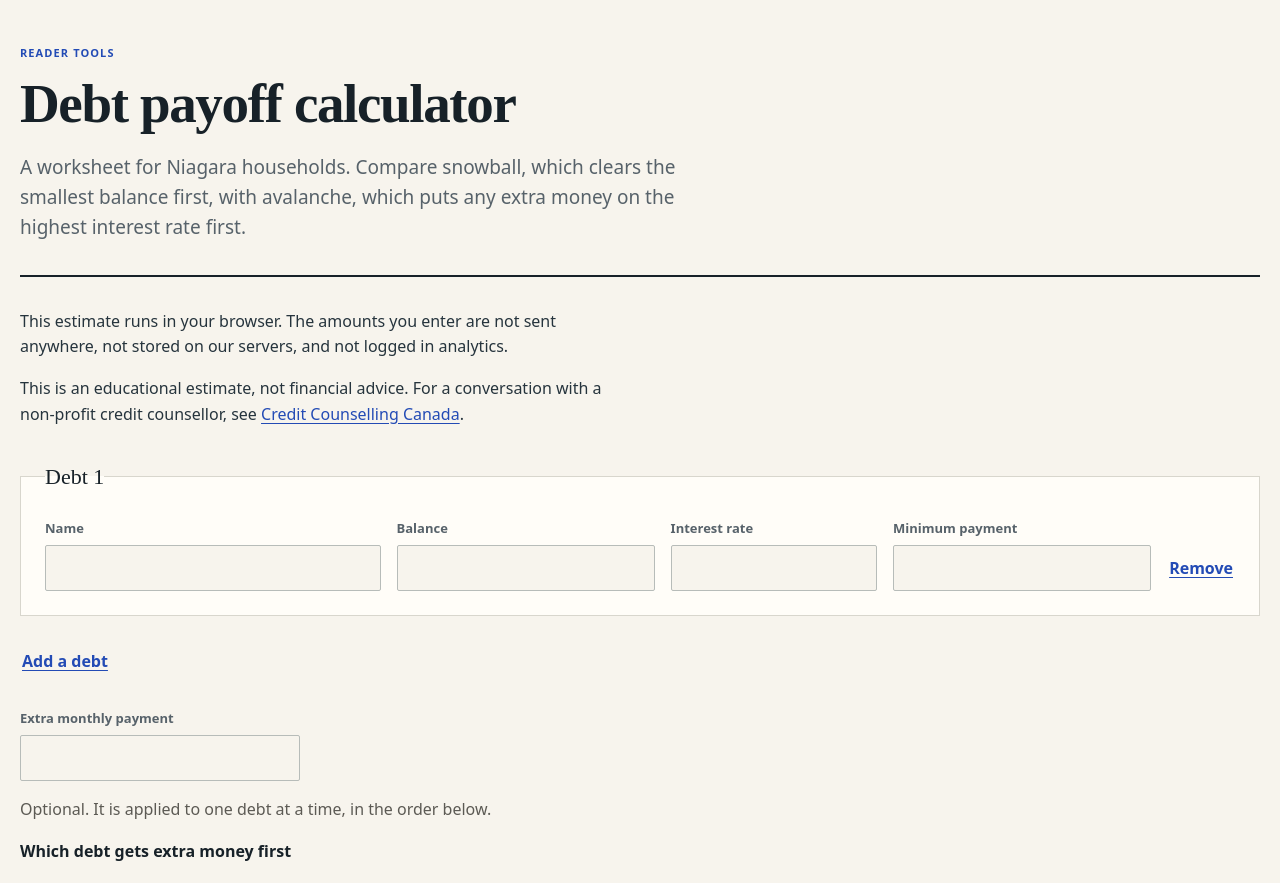
Test: DebtPayoffPage › says when the payments never clear the balance
Type "Loan" into the field labelled "Name" at {"x": 213, "y": 568}, box [45,545,380,591]
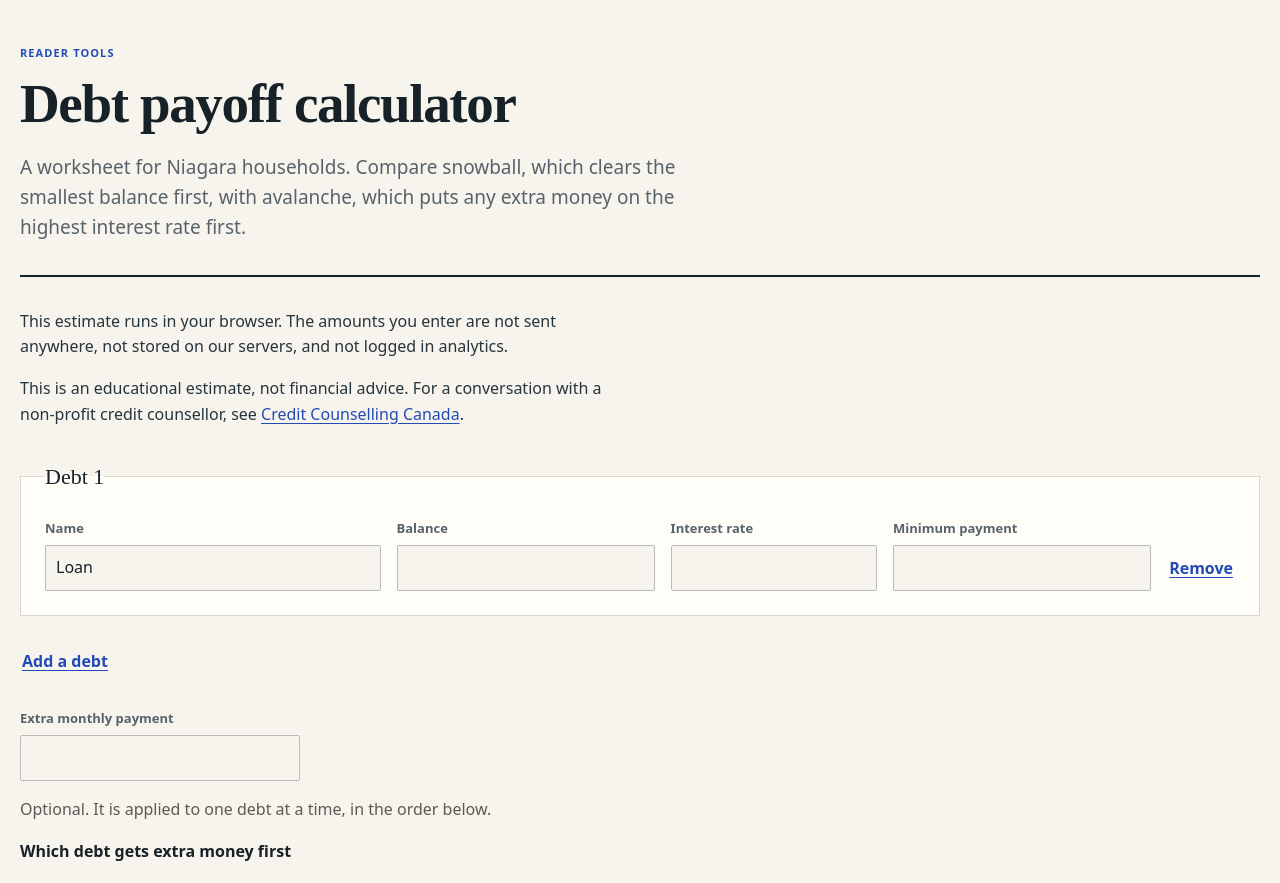
Type "100000" into the number field named "Debt 1 balance" at {"x": 526, "y": 568}, box [396,545,655,591]
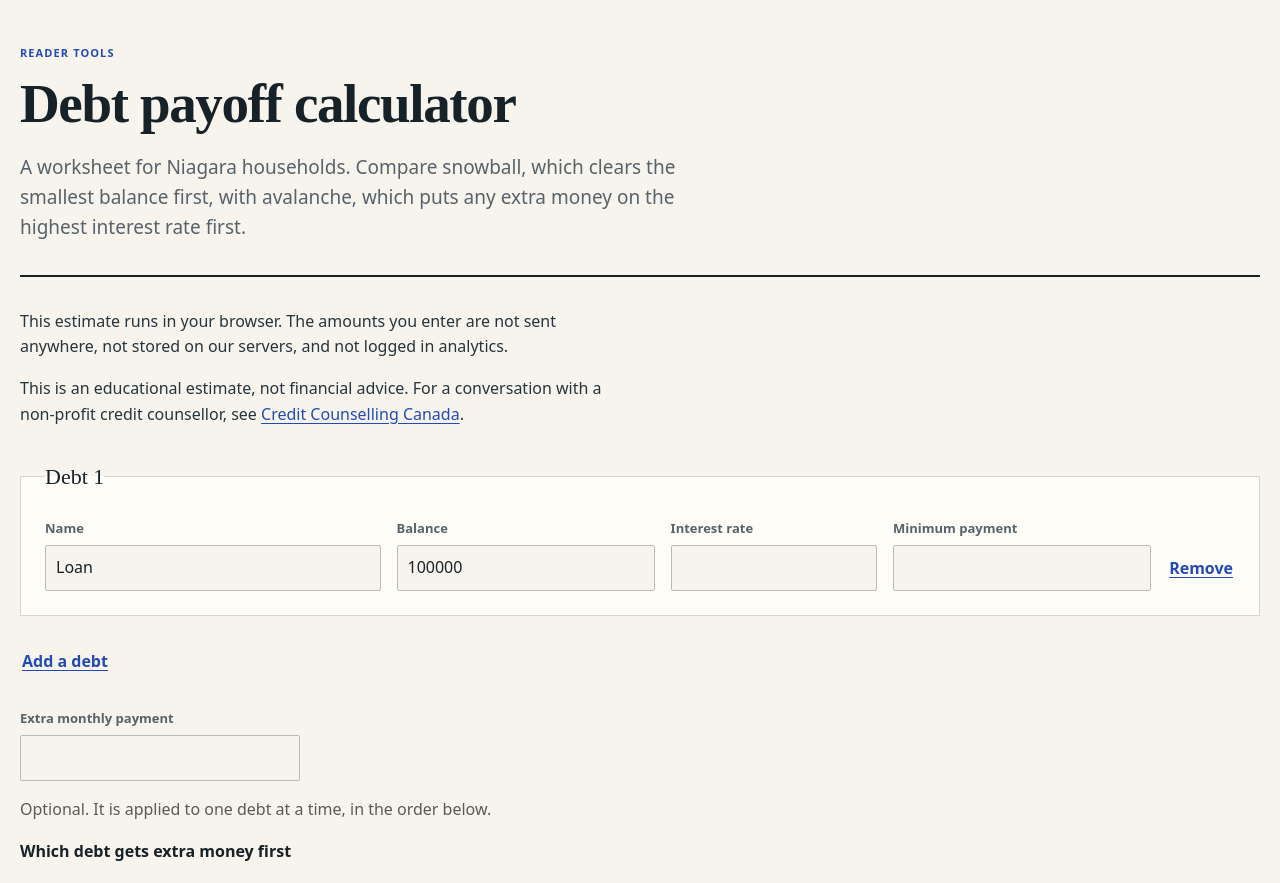
Type "2" into the number field named "Debt 1 interest rate" at {"x": 774, "y": 568}, box [671,545,877,591]
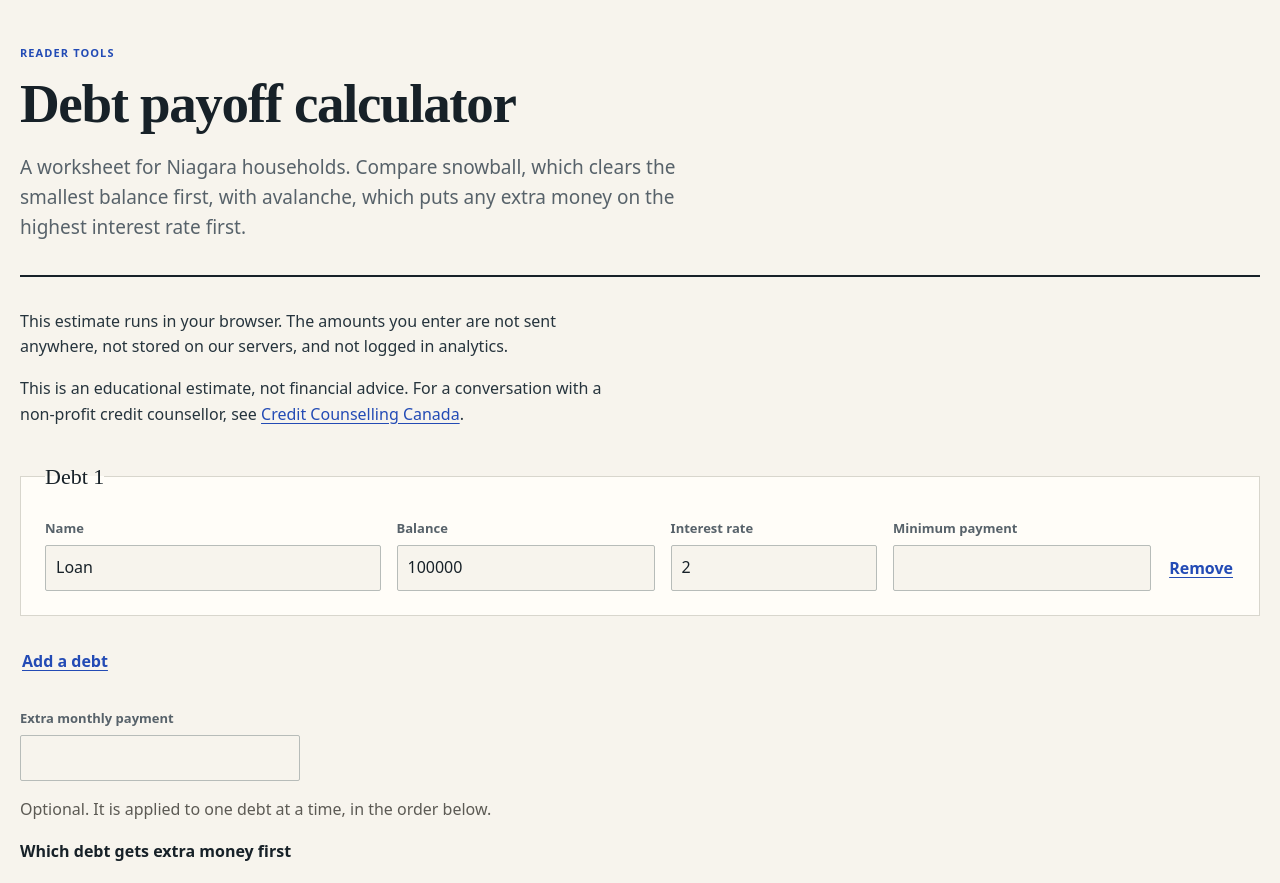
Type "170" into the number field named "Debt 1 minimum payment" at {"x": 1022, "y": 568}, box [893,545,1151,591]
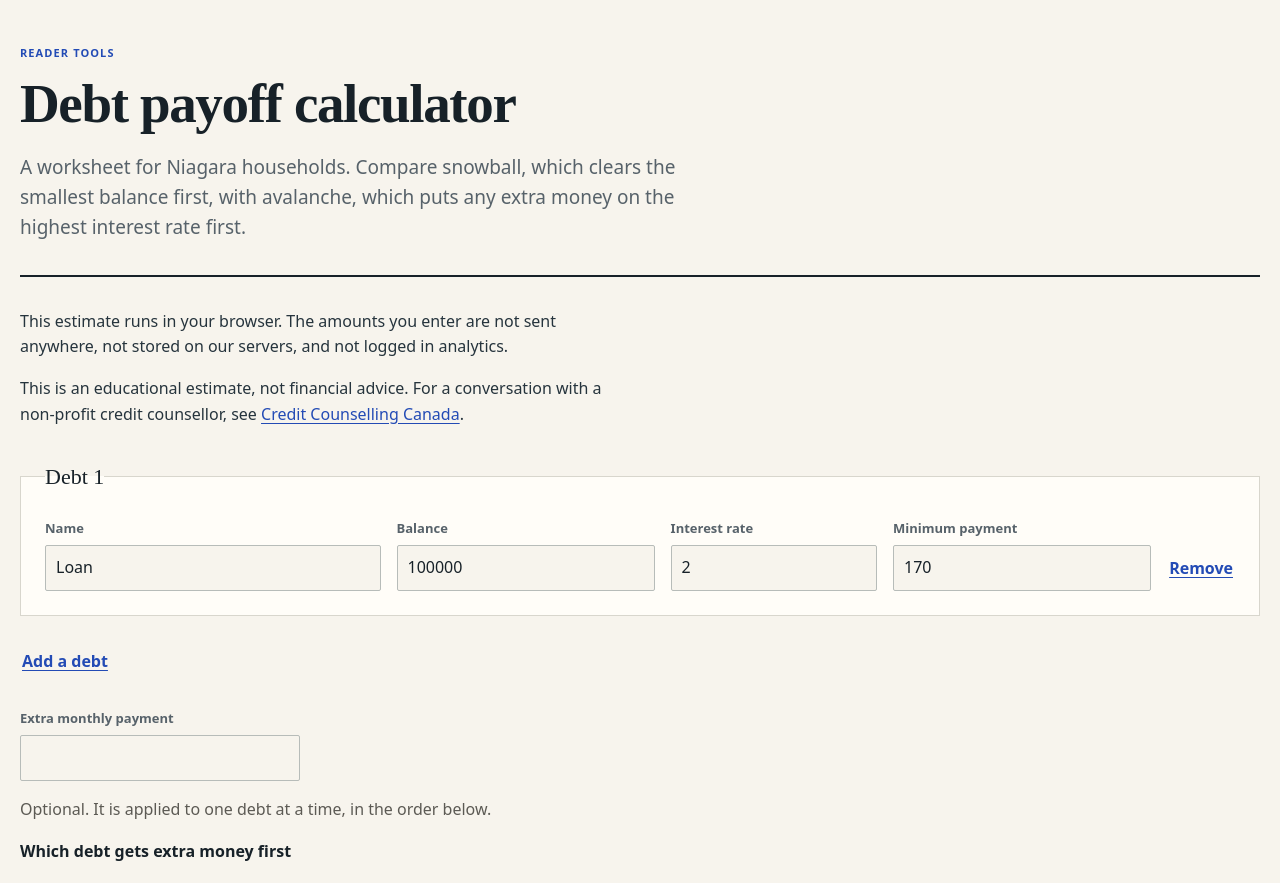
Type "0" into the number field labelled "Extra monthly payment" at {"x": 160, "y": 758}, box [20,735,300,781]
(page scrolled)
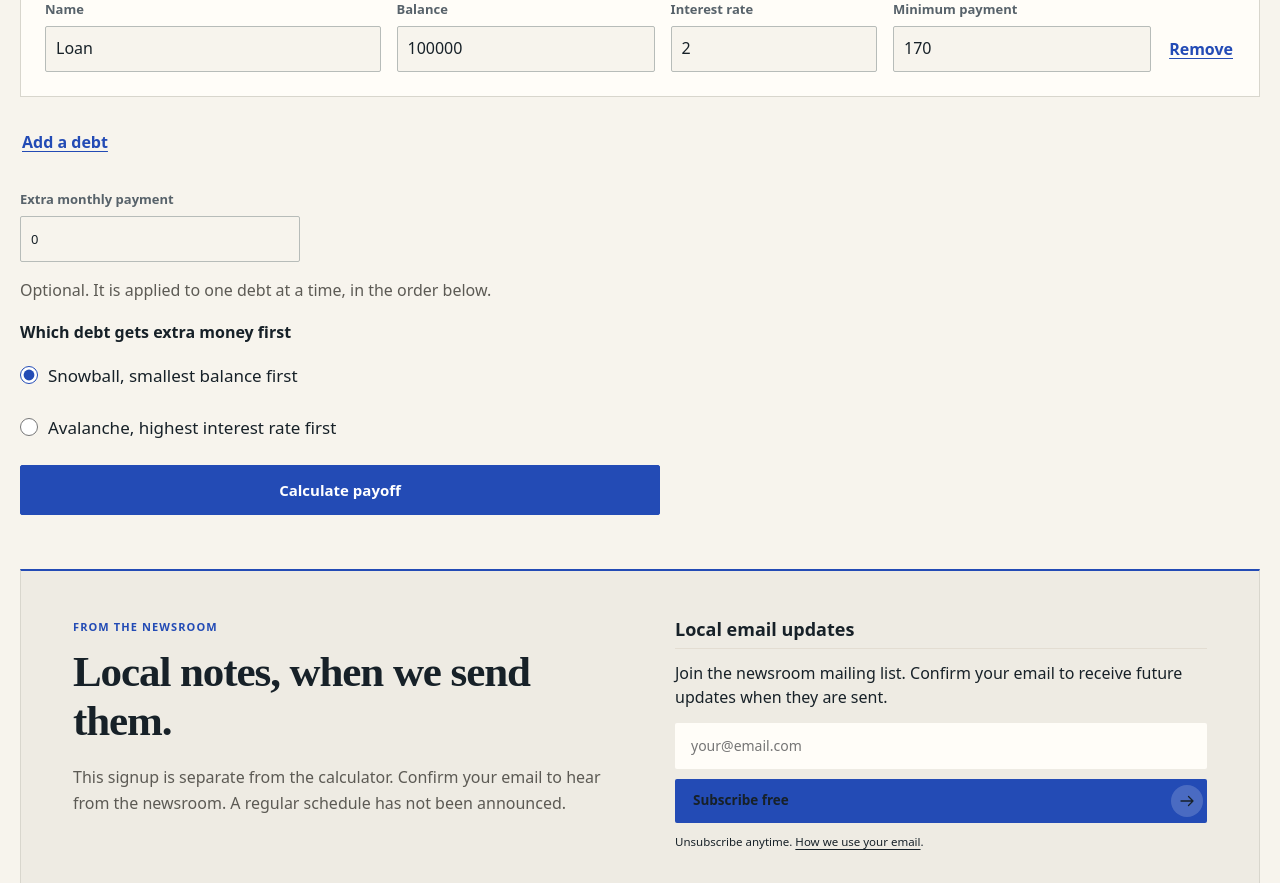
Click the button "Calculate payoff" at {"x": 340, "y": 490}, box [20,465,660,515]
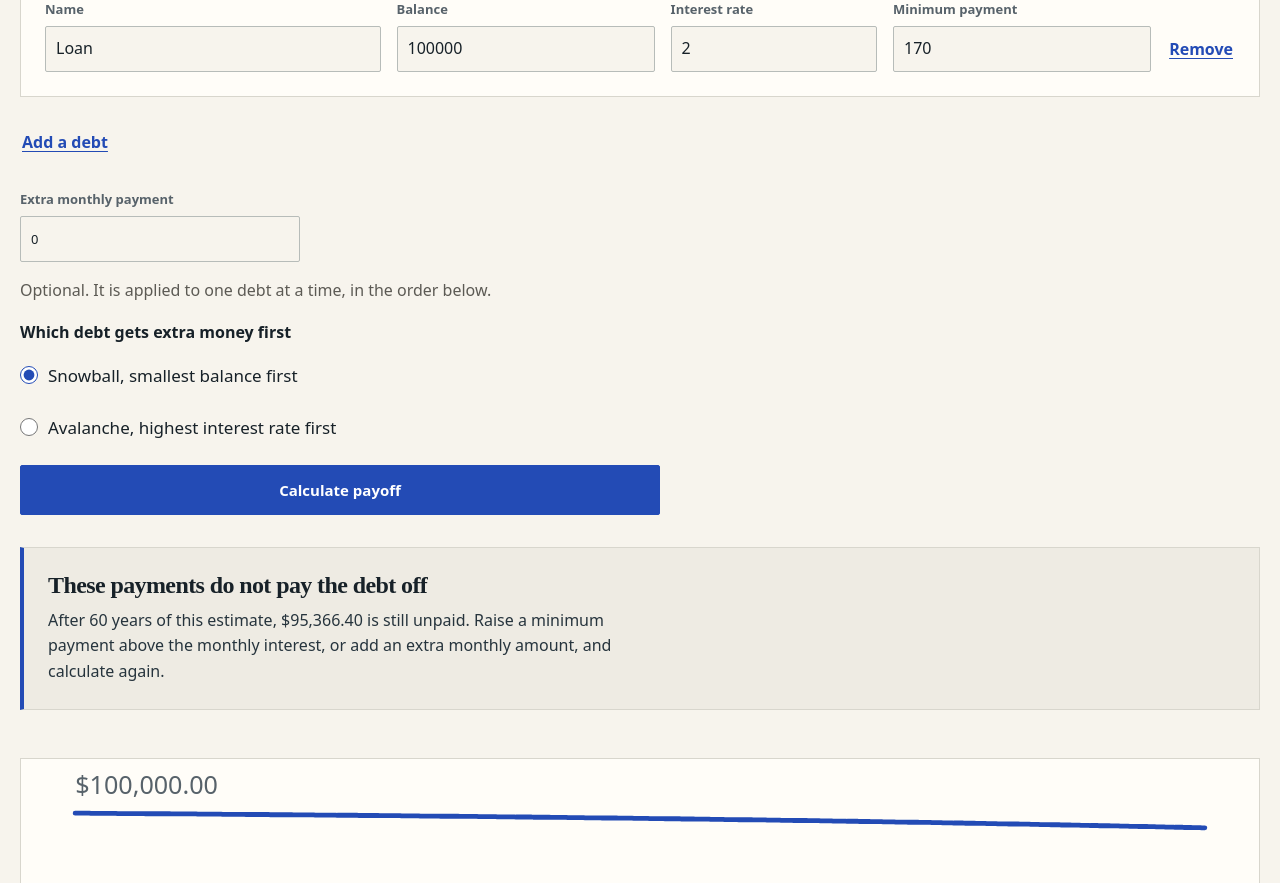
Check: the message shows "do not pay the debt off", box [48,572,427,598]
Check: the message shows "$95,366.40", box [281,609,363,631]
